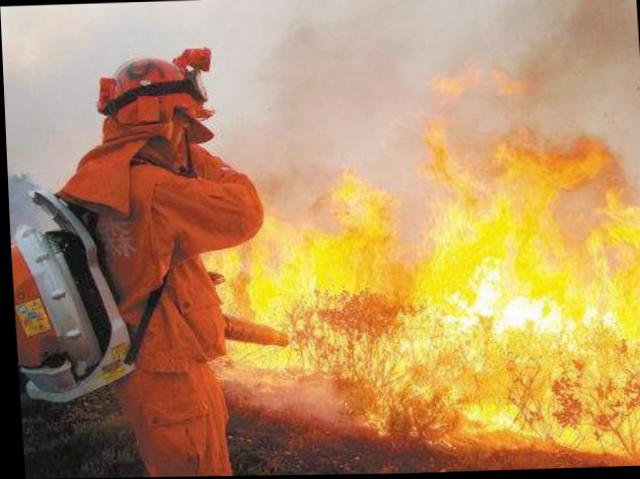fire: (205, 142, 639, 464)
